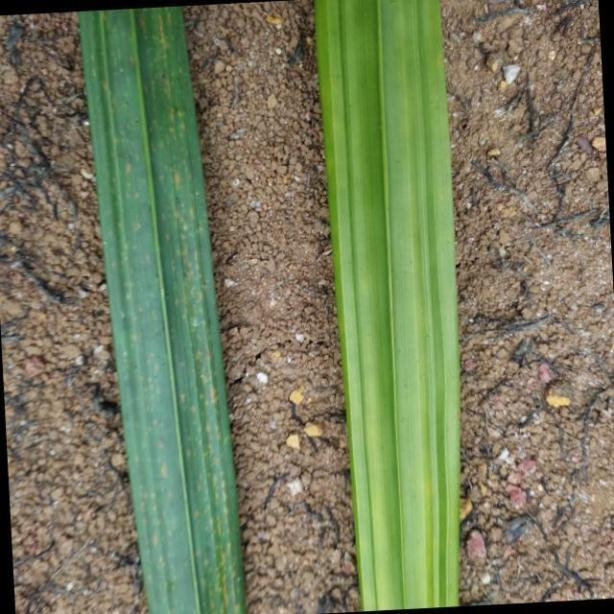nitrogen: (69, 0, 248, 614), (316, 5, 464, 614)
